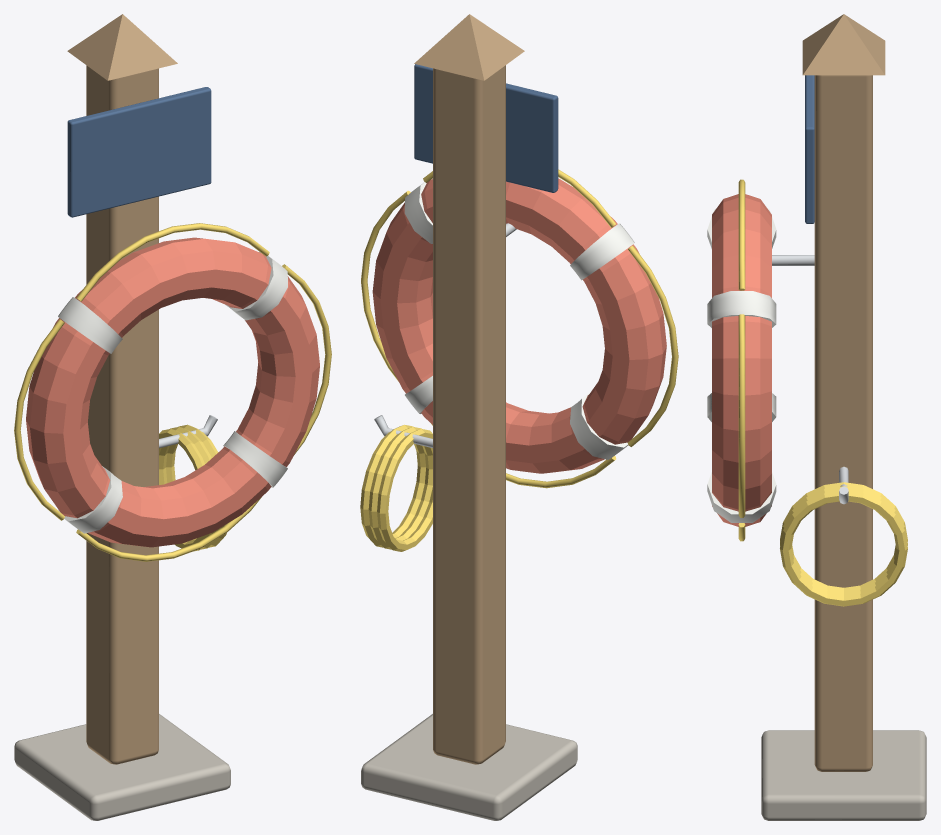
The model's file is beach-surf-and-paddle-kit-ring-buoy-post-92d04ac6__39436.glb.
The picture shows the model from 3 angles, left to right: view 1: azimuth 30°, elevation 25°; view 2: azimuth 150°, elevation 25°; view 3: azimuth 270°, elevation 25°; orthographic projection.
Parts seen in each view (by area): view 1: ring-buoy-post-coral, ring-buoy-post-timber, ring-buoy-post-navy, ring-buoy-post-drift, ring-buoy-post-sun, ring-buoy-post-foam; view 2: ring-buoy-post-timber, ring-buoy-post-coral, ring-buoy-post-drift, ring-buoy-post-sun, ring-buoy-post-navy, ring-buoy-post-foam; view 3: ring-buoy-post-timber, ring-buoy-post-coral, ring-buoy-post-drift, ring-buoy-post-sun, ring-buoy-post-foam, ring-buoy-post-navy, ring-buoy-post-steel.
Boxes of the visible parts, left/top/right/bottom form: ring-buoy-post-coral: left=26, top=237, right=319, bottom=547; ring-buoy-post-timber: left=67, top=14, right=177, bottom=764; ring-buoy-post-navy: left=67, top=87, right=211, bottom=217; ring-buoy-post-drift: left=14, top=714, right=230, bottom=820; ring-buoy-post-sun: left=14, top=223, right=331, bottom=561; ring-buoy-post-foam: left=58, top=252, right=287, bottom=533; ring-buoy-post-timber: left=414, top=14, right=524, bottom=764; ring-buoy-post-coral: left=372, top=178, right=666, bottom=473; ring-buoy-post-drift: left=361, top=714, right=577, bottom=820; ring-buoy-post-sun: left=360, top=169, right=678, bottom=551; ring-buoy-post-navy: left=414, top=64, right=558, bottom=192; ring-buoy-post-foam: left=404, top=178, right=634, bottom=459; ring-buoy-post-timber: left=802, top=14, right=885, bottom=771; ring-buoy-post-coral: left=712, top=194, right=771, bottom=526; ring-buoy-post-drift: left=761, top=730, right=926, bottom=820; ring-buoy-post-sun: left=738, top=179, right=907, bottom=606; ring-buoy-post-foam: left=707, top=208, right=776, bottom=522; ring-buoy-post-navy: left=805, top=75, right=814, bottom=223; ring-buoy-post-steel: left=772, top=255, right=848, bottom=504.
Bounding box in the file's own units: 0.7621 × 1.76 × 0.451.
